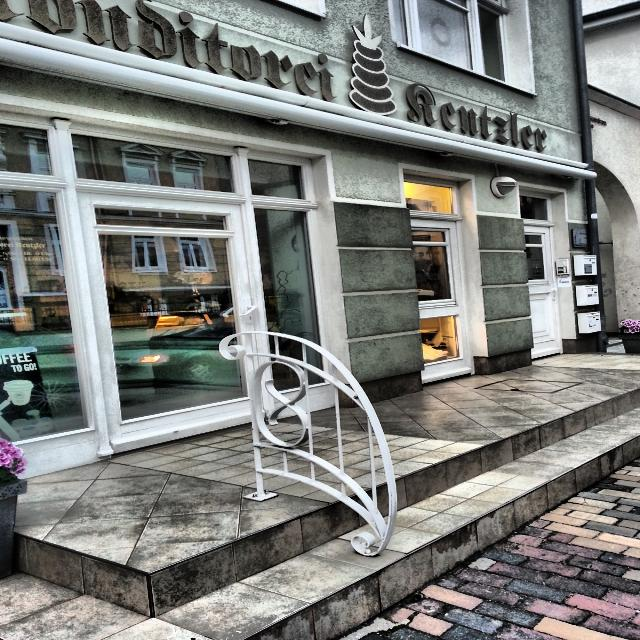escada: (9, 386, 640, 640)
